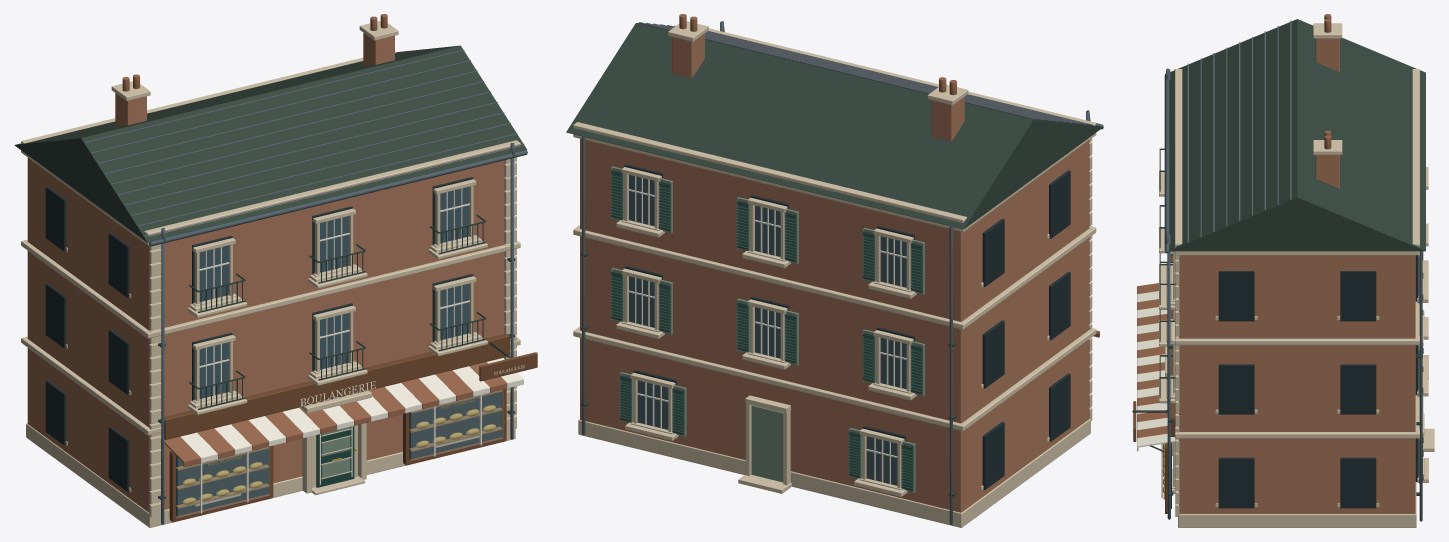
Rendered from brick_bakery.glb.
3 renders of one model, left to right at view 1: azimuth 30°, elevation 25°; view 2: azimuth 150°, elevation 25°; view 3: azimuth 270°, elevation 25°, orthographic. The views are drawn at different scales.
Parts seen in each view (by area): view 1: Building_masonry, Pitched_slate_roof, Shop_fascia, Display_glass.001, Display_glass, Continuous_cornice.003, Continuous_cornice.001, Stone_plinth, Shop_display_recess, Shop_display_recess.001, Zinc_gutter, Continuous_cornice (+27 smaller); view 2: Building_masonry, Pitched_slate_roof, Stone_plinth, Continuous_cornice.001, Continuous_cornice, Continuous_cornice.003, Garden_entry_door, Continuous_cornice.002, Window_recess.019, Window_recess.017, Window_recess.021, Window_recess.020 (+15 smaller); view 3: Building_masonry, Pitched_slate_roof, Stone_plinth, Continuous_cornice.003, Continuous_cornice.001, Window_recess.022, Window_recess.023, Continuous_cornice, Window_recess.024, Window_recess.025, Window_recess.026, Window_recess.027 (+16 smaller).
Boxes of the visible parts, <box> form: Building_masonry: <box>27,158,505,512</box>; Pitched_slate_roof: <box>14,45,526,242</box>; Shop_fascia: <box>164,333,509,439</box>; Display_glass.001: <box>411,390,503,460</box>; Display_glass: <box>178,447,269,517</box>; Continuous_cornice.003: <box>21,51,520,236</box>; Continuous_cornice.001: <box>21,239,520,338</box>; Stone_plinth: <box>26,423,515,527</box>; Shop_display_recess: <box>176,449,268,516</box>; Shop_display_recess.001: <box>409,392,501,459</box>; Zinc_gutter: <box>149,150,527,246</box>; Continuous_cornice: <box>21,336,520,435</box>; Building_masonry: <box>580,139,1089,512</box>; Pitched_slate_roof: <box>566,23,1102,229</box>; Stone_plinth: <box>578,419,1090,527</box>; Continuous_cornice.001: <box>573,225,1096,329</box>; Continuous_cornice: <box>573,326,1096,431</box>; Continuous_cornice.003: <box>573,28,1096,222</box>; Garden_entry_door: <box>751,405,783,482</box>; Continuous_cornice.002: <box>573,133,1096,231</box>; Window_recess.019: <box>982,320,1004,388</box>; Window_recess.017: <box>982,421,1004,489</box>; Window_recess.021: <box>982,218,1004,286</box>; Window_recess.020: <box>1049,170,1070,238</box>; Building_masonry: <box>1179,255,1415,513</box>; Pitched_slate_roof: <box>1169,19,1425,251</box>; Stone_plinth: <box>1178,482,1416,527</box>; Continuous_cornice.003: <box>1175,69,1419,246</box>; Continuous_cornice.001: <box>1175,301,1419,345</box>; Window_recess.022: <box>1340,457,1376,508</box>; Window_recess.023: <box>1218,457,1254,508</box>; Continuous_cornice: <box>1175,395,1419,438</box>; Window_recess.024: <box>1340,364,1376,414</box>; Window_recess.025: <box>1218,364,1254,414</box>; Window_recess.026: <box>1340,271,1376,321</box>; Window_recess.027: <box>1218,271,1254,321</box>.
Bounding box in the file's own units: 12.5 × 11.95 × 8.94.
